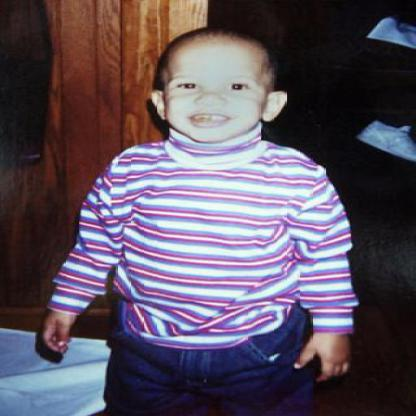face: (161, 31, 271, 145)
